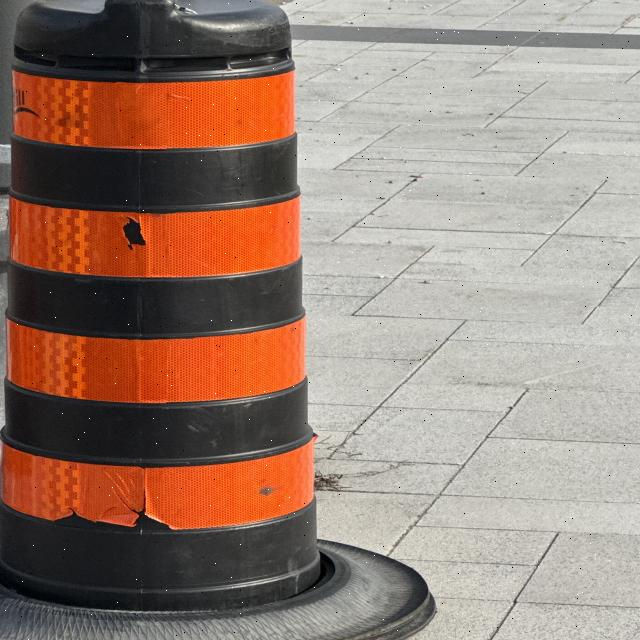Teraffic Barrel: (0, 0, 433, 640)
